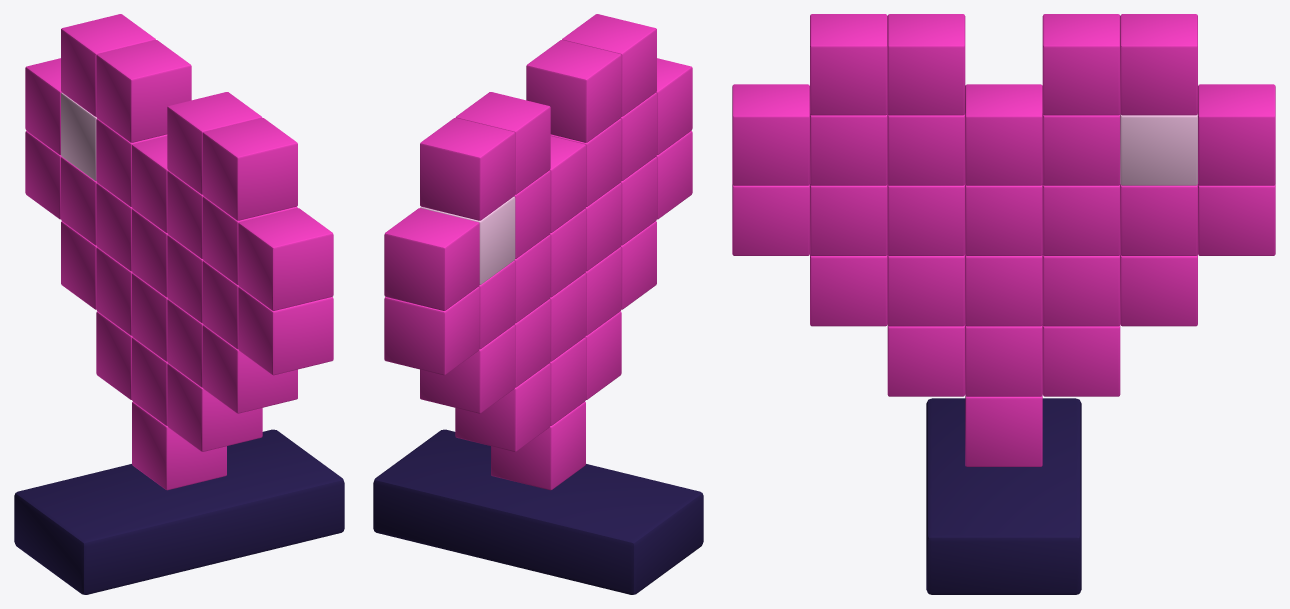
File: MidPixel.fbx
3 renders of one model, left to right at view 1: azimuth 30°, elevation 25°; view 2: azimuth 150°, elevation 25°; view 3: azimuth 270°, elevation 25°, orthographic. The views are drawn at different scales.
Parts seen in each view (by area): view 1: MidPixel; view 2: MidPixel; view 3: MidPixel.
Boxes of the visible parts, x1,y1,x2,y2 form: MidPixel: (14,14,344,594); MidPixel: (373,14,703,594); MidPixel: (732,14,1275,594).
Bounding box in the file's own units: 300 × 495 × 490.
